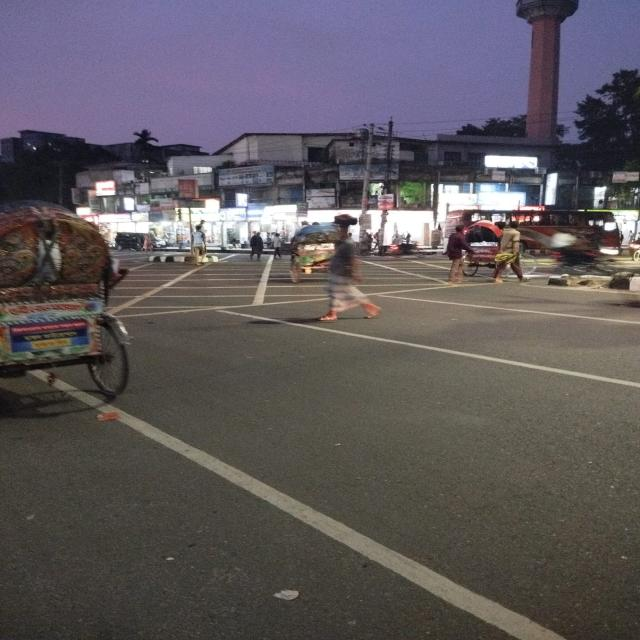person: (318, 215, 379, 322), (493, 220, 527, 284), (445, 225, 475, 284), (191, 225, 207, 265)
